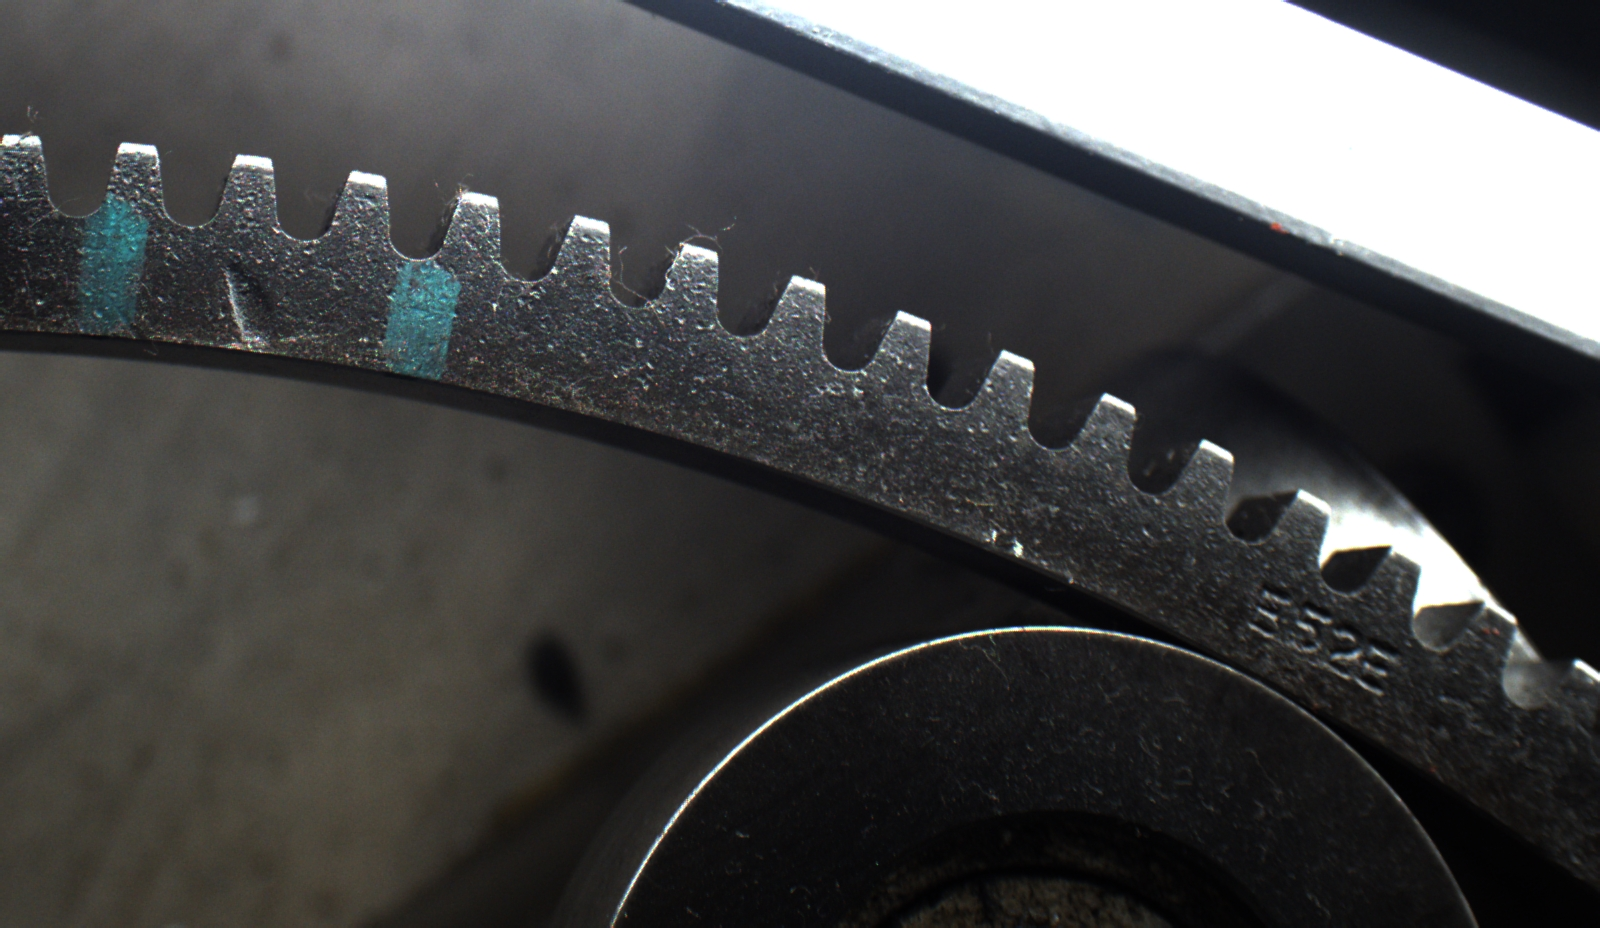test: (624, 302, 1247, 592)
